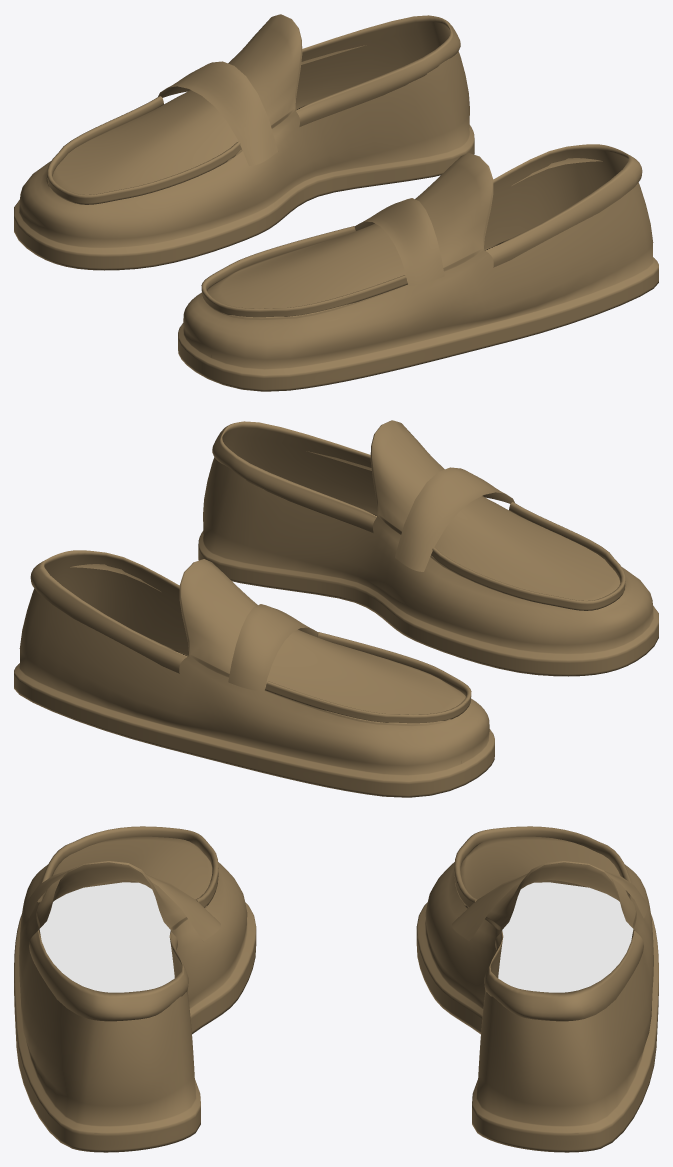
Rendered from shoes 5.fbx.
3 views of the same model, one above another, from view 1: azimuth 30°, elevation 25°; view 2: azimuth 150°, elevation 25°; view 3: azimuth 270°, elevation 25° (orthographic). The views are drawn at different scales.
Parts seen in each view (by area): view 1: Rectangle02, Rectangle02.002; view 2: Rectangle02.002, Rectangle02; view 3: Rectangle02.002, Rectangle02.
Boxes of the visible parts, x1,y1,x2,y2 form: Rectangle02: (178, 144, 658, 391); Rectangle02.002: (14, 14, 474, 270); Rectangle02.002: (14, 550, 494, 797); Rectangle02: (198, 420, 658, 676); Rectangle02.002: (416, 826, 658, 1152); Rectangle02: (14, 826, 256, 1152).
Bounding box in the file's own units: 476 × 160 × 492.
1 material, 1 textured.
